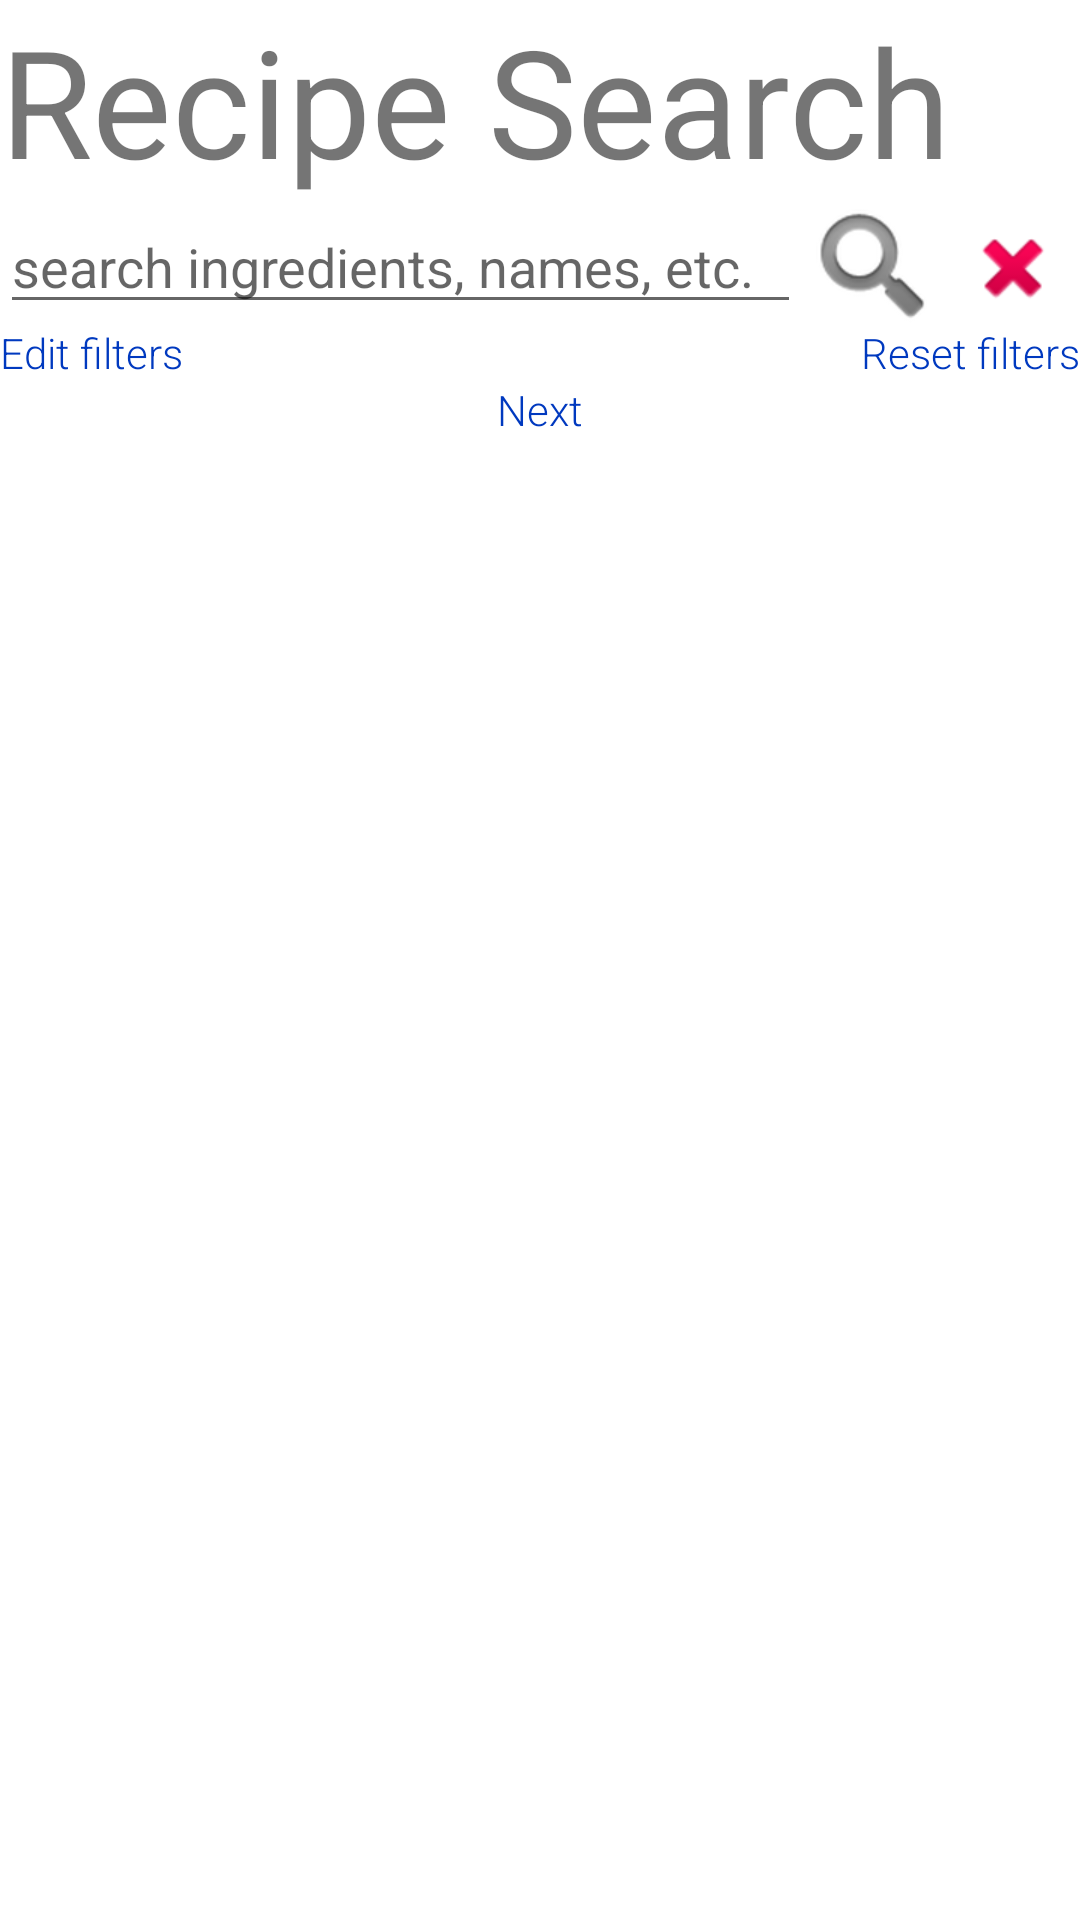

Point at icon controls on the screen. Image size 1080x1920, points as (x=x, y=y).
clear previous search: (x=1013, y=268)
